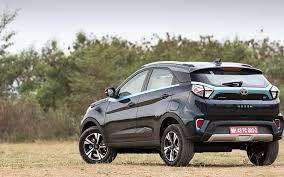Tata Nexon: (78, 57, 284, 169)
